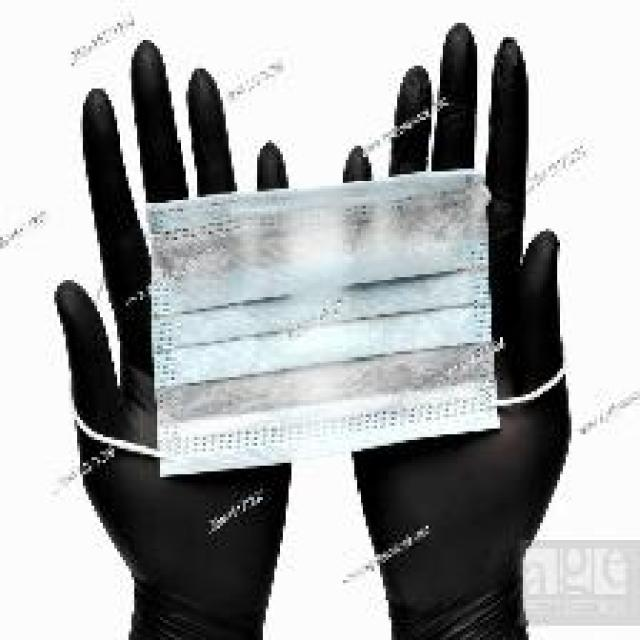Mask: (96, 103, 550, 471)
